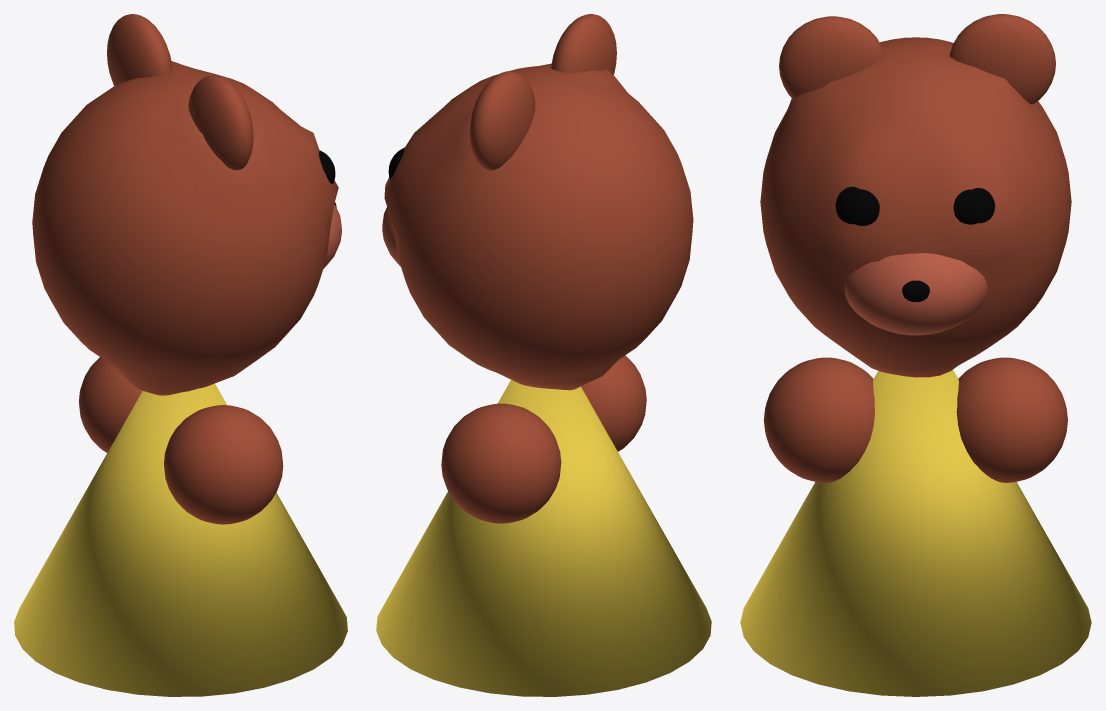
The model's file is firstBear.fbx.
3 views of the same model, side by side, from view 1: azimuth 30°, elevation 25°; view 2: azimuth 150°, elevation 25°; view 3: azimuth 270°, elevation 25° (orthographic). The views are drawn at different scales.
Visible parts, largest first — view 1: Head, Telo, Arm.001, Ear.001, Arm, Ear; view 2: Head, Telo, Arm, Ear, Arm.001, Ear.001; view 3: Head, Telo, Arm.001, Arm, Ear, Ear.001, Eyes.001, Eyes.
Boxes of the visible parts, box(x1,y1,x2,y2) form: Head: box(32, 61, 341, 395); Telo: box(14, 383, 347, 696); Arm.001: box(164, 405, 283, 524); Ear.001: box(188, 75, 253, 170); Arm: box(79, 357, 142, 452); Ear: box(107, 14, 172, 85); Head: box(382, 63, 693, 390); Telo: box(376, 379, 711, 696); Arm: box(441, 403, 561, 523); Ear: box(469, 71, 535, 170); Arm.001: box(581, 355, 646, 451); Ear.001: box(551, 14, 616, 74); Head: box(760, 37, 1071, 377); Telo: box(740, 370, 1091, 696); Arm.001: box(763, 357, 874, 482); Arm: box(956, 357, 1067, 482); Ear: box(949, 14, 1055, 104); Ear.001: box(779, 16, 884, 99); Eyes.001: box(835, 186, 879, 225); Eyes: box(953, 188, 995, 224).
Size of the model in its own units: 206 by 382 by 200.
